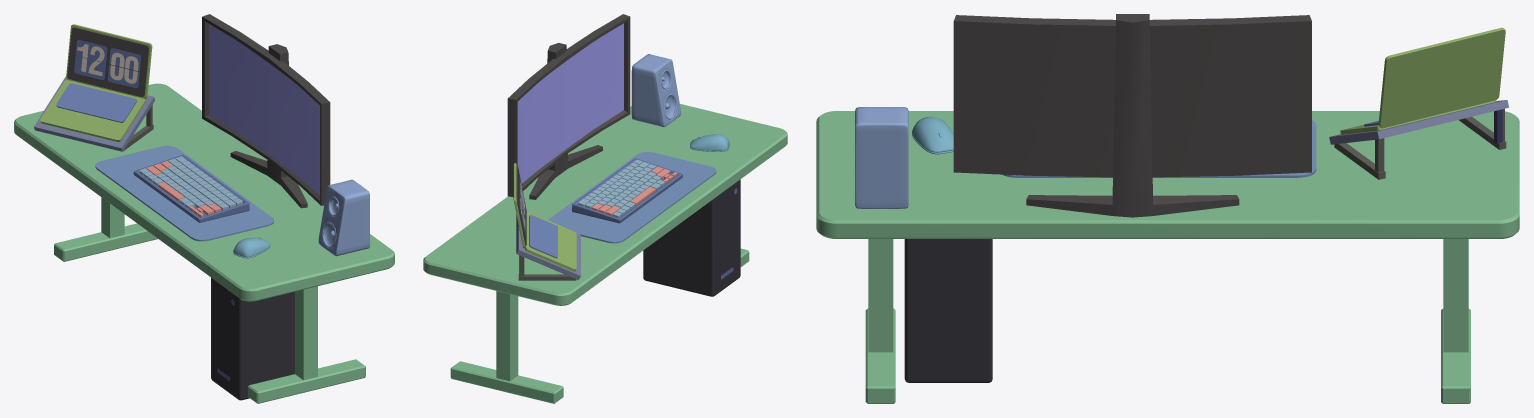
Rendered from desk-transformed.glb.
The picture shows the model from 3 angles, left to right: view 1: azimuth 30°, elevation 25°; view 2: azimuth 150°, elevation 25°; view 3: azimuth 270°, elevation 25°; orthographic projection. The views are drawn at different scales.
Parts seen in each view (by area): view 1: Merged Geometry.004, Cube 59, Cube 5.002, Merged Geometry 10, Rectangle 3, Cube 2.002, Rectangle 4.001, Rectangle 6, Group 40, Rectangle 5.001, Merged Geometry 2, Cube 4.001 (+5 smaller); view 2: Merged Geometry.004, Cube 59, Cube 5.002, Merged Geometry 10, Rectangle 3, Cube 2.002, Group 40, Rectangle 4.001, Cube 4.002, Rectangle 5.001, Cube 4.001, Merged Geometry.003 (+3 smaller); view 3: Merged Geometry 10, Merged Geometry.004, Cube 5.002, Rectangle 6.001, Cube 2.002, Cube 4.001, Cube.002, Rectangle 3.
Boxes of the visible parts, left/top/right/bottom form: Merged Geometry.004: left=14, top=83, right=394, bottom=403; Cube 59: left=209, top=24, right=319, bottom=194; Cube 5.002: left=211, top=277, right=294, bottom=400; Merged Geometry 10: left=202, top=14, right=330, bottom=208; Rectangle 3: left=95, top=145, right=273, bottom=241; Cube 2.002: left=318, top=179, right=369, bottom=256; Rectangle 4.001: left=40, top=80, right=145, bottom=141; Rectangle 6: left=67, top=27, right=149, bottom=96; Group 40: left=140, top=158, right=243, bottom=210; Rectangle 5.001: left=56, top=83, right=136, bottom=122; Merged Geometry 2: left=74, top=40, right=140, bottom=88; Cube 4.001: left=34, top=76, right=154, bottom=151; Merged Geometry.004: left=423, top=104, right=787, bottom=403; Cube 59: left=517, top=23, right=623, bottom=183; Cube 5.002: left=643, top=179, right=740, bottom=296; Merged Geometry 10: left=507, top=14, right=630, bottom=199; Rectangle 3: left=548, top=152, right=716, bottom=243; Cube 2.002: left=631, top=54, right=680, bottom=127; Group 40: left=584, top=159, right=664, bottom=217; Rectangle 4.001: left=525, top=212, right=576, bottom=271; Cube 4.002: left=572, top=158, right=682, bottom=223; Rectangle 5.001: left=529, top=215, right=557, bottom=258; Cube 4.001: left=516, top=215, right=580, bottom=280; Merged Geometry.003: left=591, top=166, right=677, bottom=215; Merged Geometry 10: left=953, top=14, right=1311, bottom=217; Merged Geometry.004: left=816, top=111, right=1519, bottom=403; Cube 5.002: left=904, top=239, right=992, bottom=382; Rectangle 6.001: left=1378, top=27, right=1505, bottom=128; Cube 2.002: left=855, top=107, right=908, bottom=208; Cube 4.001: left=1329, top=100, right=1508, bottom=144; Cube.002: left=912, top=116, right=953, bottom=154; Rectangle 3: left=1003, top=120, right=1316, bottom=177.
Size of the model in its own units: 1.24 by 2.07 by 3.31.
